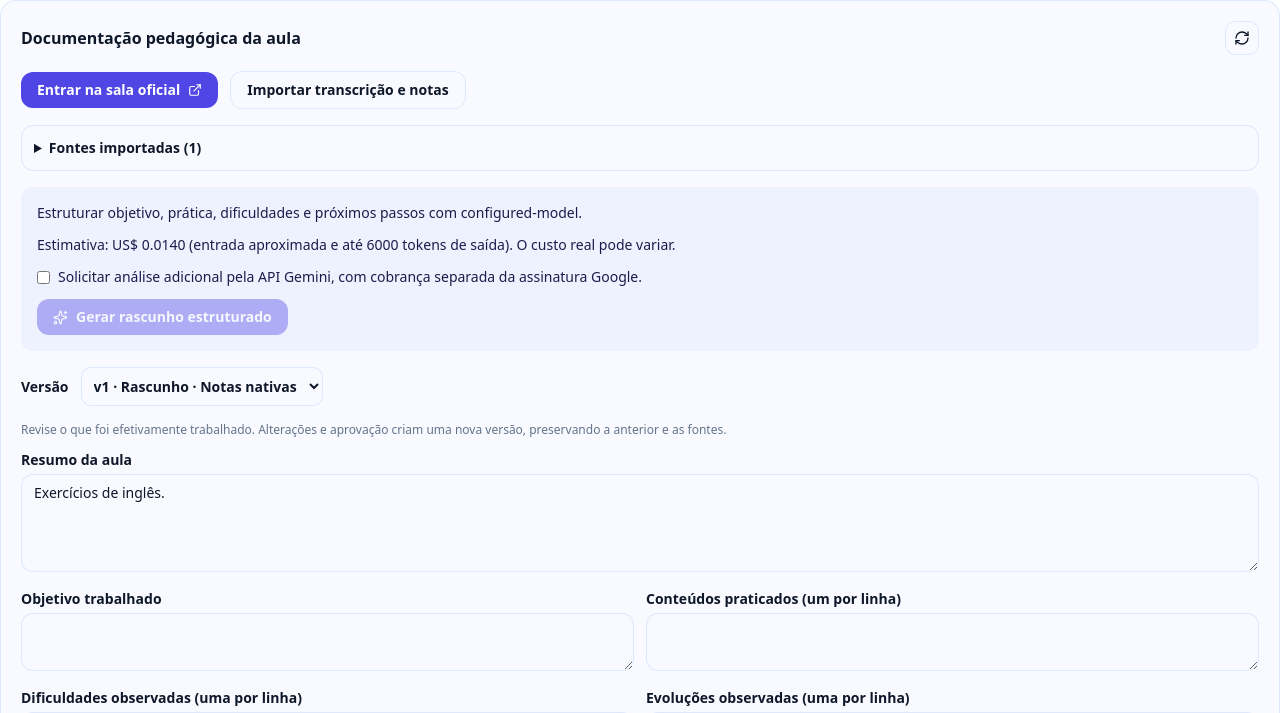
Google Meet documentation readiness and human review › shows additional API estimate and requires cost acknowledgment before generation
The width and height of the screenshot is (1280, 713).
Expected: the button "Gerar rascunho estruturado" is disabled, [37,299,288,335]
Expected: the text "US$ 0.0140" is shown, [37,235,676,254]
Click the checkbox: x=44, y=278 [37,271,50,284]
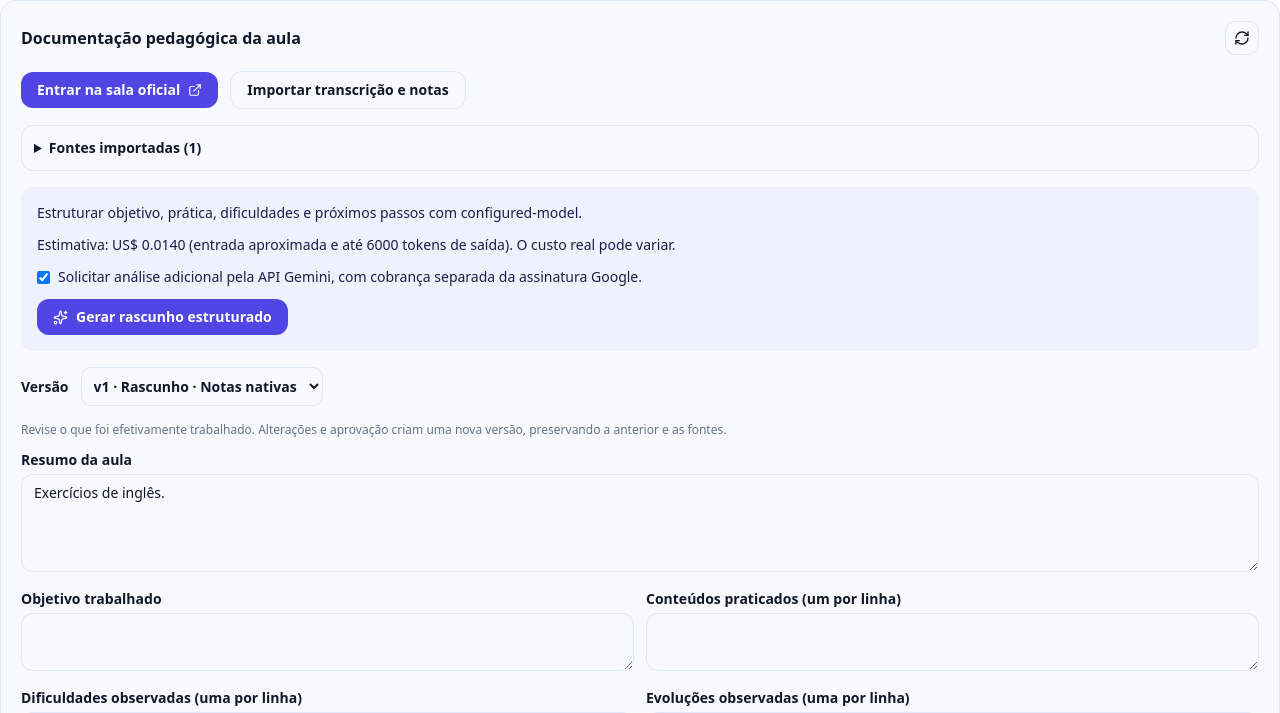
Result: the button "Gerar rascunho estruturado" is enabled at [37,299,288,335]
